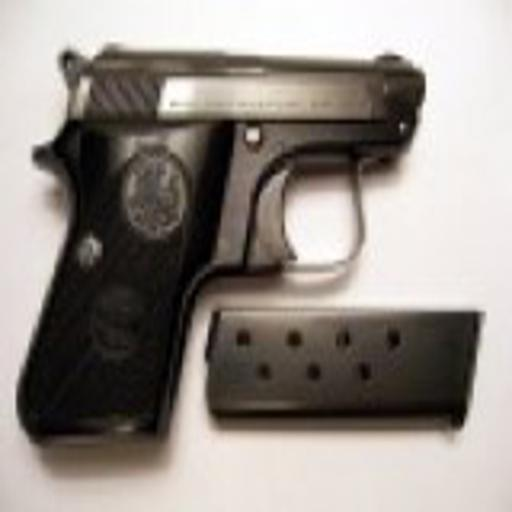Handgun: (15, 33, 424, 447)
